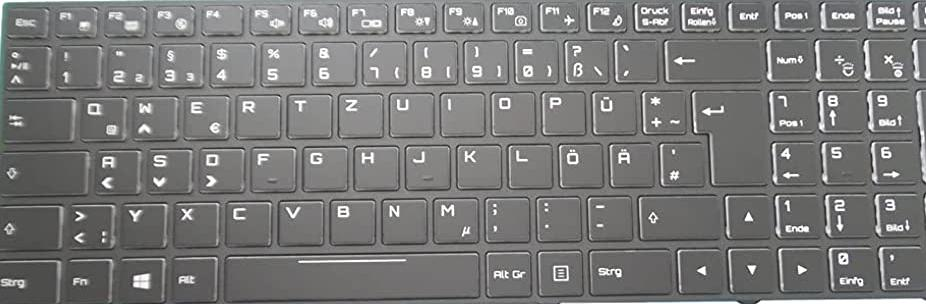0: (510, 36, 556, 82)
1: (52, 42, 99, 88)
2: (104, 41, 150, 86)
3: (155, 39, 201, 86)
4: (206, 39, 253, 85)
5: (257, 38, 303, 84)
6: (307, 37, 354, 84)
7: (359, 37, 405, 84)
8: (409, 36, 456, 84)
9: (459, 36, 506, 83)
a: (91, 145, 137, 192)
accent: (611, 35, 656, 81)
ae: (605, 137, 651, 185)
alt-left: (167, 253, 215, 301)
altgr-right: (482, 247, 530, 296)
b: (325, 194, 373, 243)
c: (221, 196, 269, 245)
caret: (1, 42, 46, 88)
comma: (480, 192, 528, 241)
d: (195, 143, 242, 191)
del: (661, 35, 760, 80)
e: (179, 91, 227, 138)
enter: (688, 86, 767, 183)
f: (246, 143, 293, 190)
g: (299, 141, 345, 189)
h: (350, 141, 396, 188)
hash: (656, 137, 702, 185)
i: (436, 88, 482, 134)
j: (401, 140, 447, 188)
k: (452, 140, 499, 187)
keyboard: (1, 1, 926, 304)
l: (504, 140, 549, 186)
less: (63, 200, 112, 248)
m: (428, 192, 476, 242)
minus: (582, 192, 629, 239)
n: (377, 194, 425, 243)
o: (486, 87, 532, 133)
oe: (555, 139, 600, 186)
p: (537, 86, 583, 132)
plus: (638, 85, 683, 132)
point: (532, 192, 579, 240)
q: (76, 93, 123, 139)
r: (231, 90, 278, 137)
s: (142, 144, 189, 192)
shift-left: (1, 201, 58, 249)
shift-lock: (1, 147, 84, 194)
shift-right: (635, 189, 717, 237)
space: (221, 250, 477, 300)
ss: (560, 36, 606, 82)
strg-left: (1, 256, 57, 304)
strg-right: (584, 245, 670, 294)
t: (283, 90, 329, 136)
tab: (1, 93, 70, 140)
u: (384, 88, 431, 135)
ue: (587, 86, 634, 133)
v: (274, 195, 321, 243)
w: (127, 91, 174, 138)
x: (170, 198, 217, 246)
y: (117, 199, 164, 246)
z: (334, 89, 381, 136)
